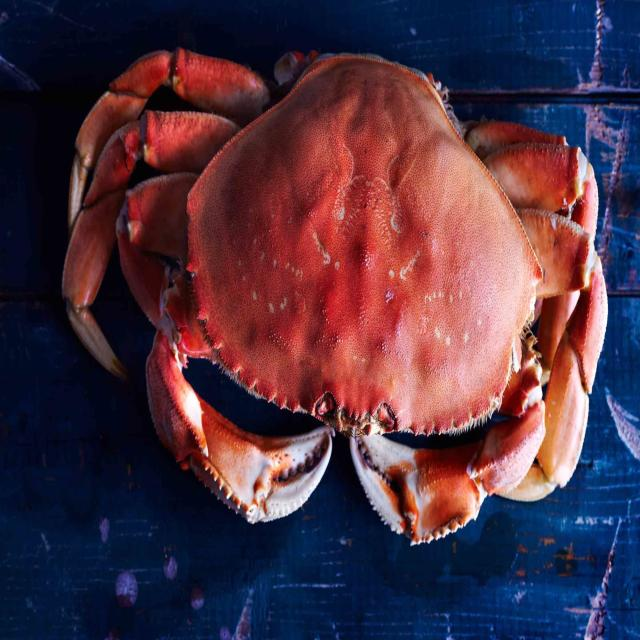crab: (83, 58, 550, 493)
